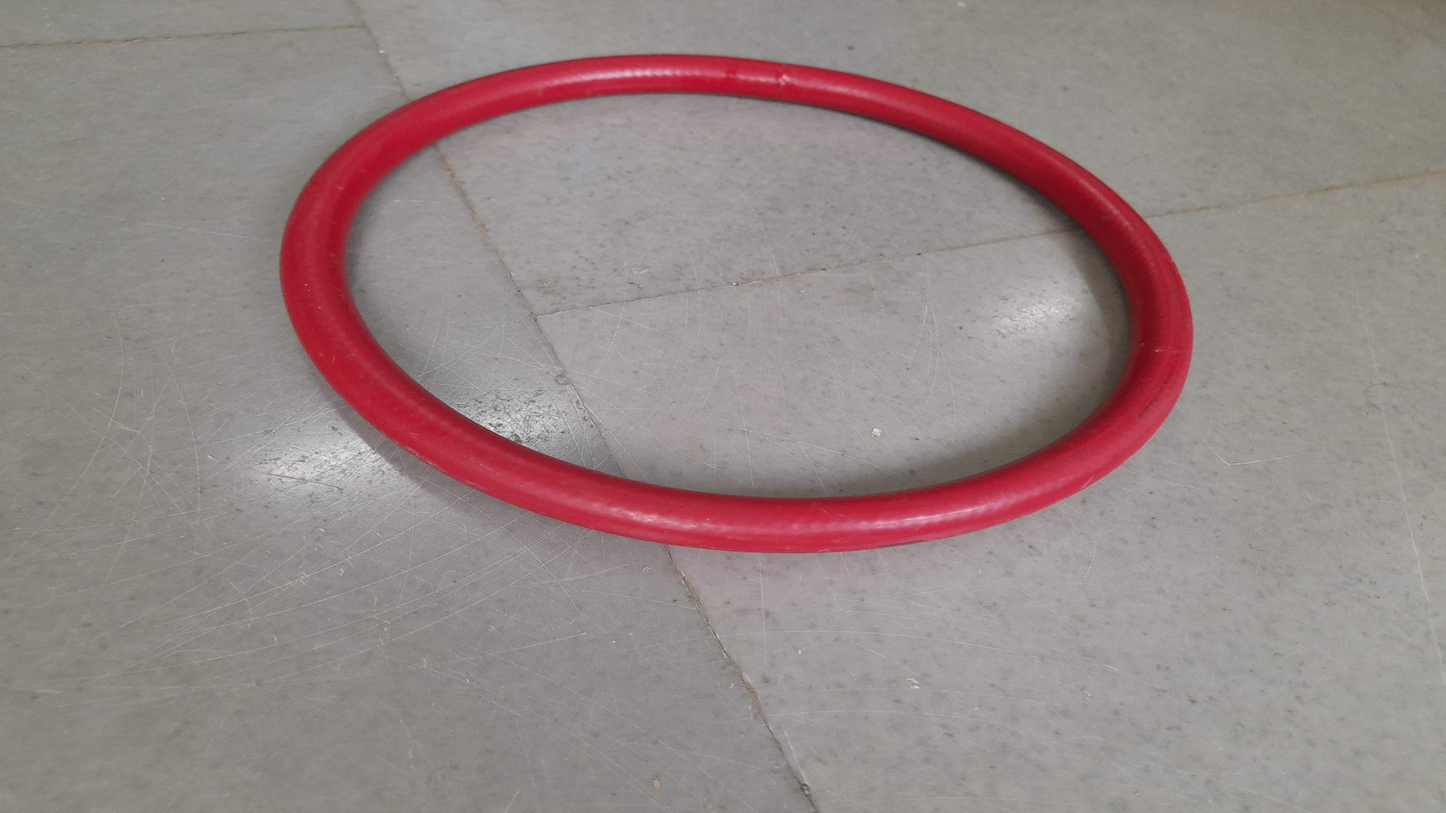Red ring: (282, 53, 1192, 553)
